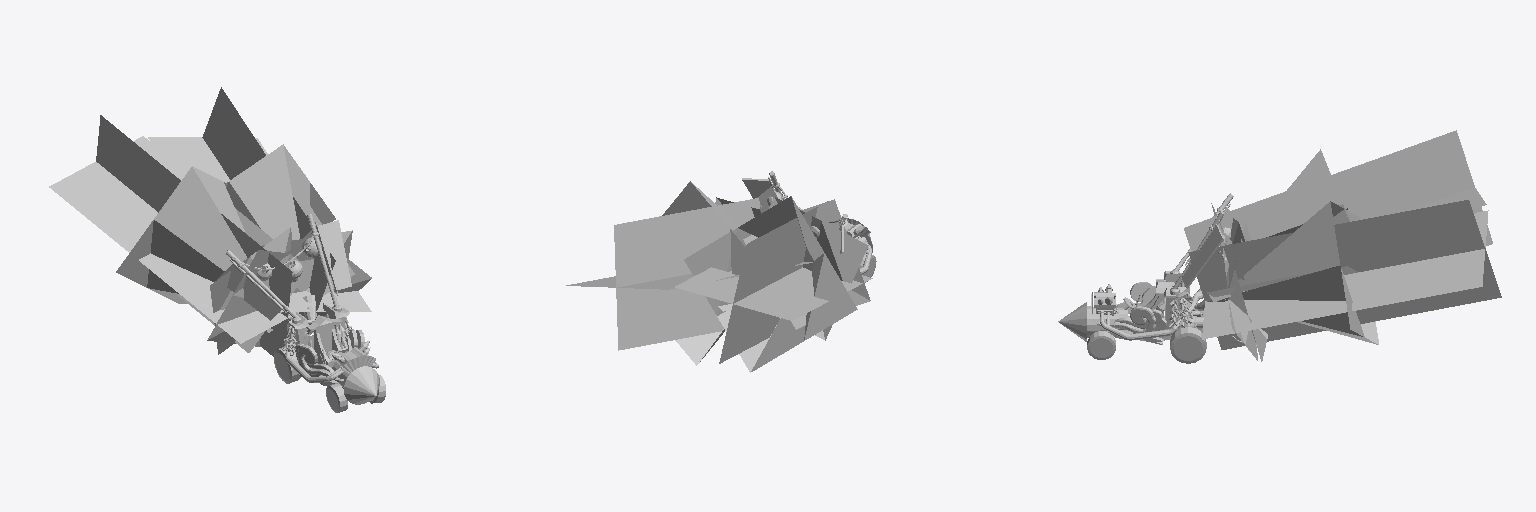
Rendered from Kart_fireFX.obj.
3 renders of one model, left to right at view 1: azimuth 30°, elevation 25°; view 2: azimuth 150°, elevation 25°; view 3: azimuth 270°, elevation 25°, orthographic.
Visible parts, largest first — view 1: Txt_Vfx_Muzzle_A, BG1_low.002, BG2_low.002, BG8_low.002, BG6_low.002, BG3_low.003, BG5_low.002, BG4_low.002; view 2: Txt_Vfx_Muzzle_A, BG1_low.002; view 3: Txt_Vfx_Muzzle_A, BG1_low.002, BG2_low.002, BG9_low.003, BG6_low.002, BG4_low.002.
Part boxes in pixels (left/top/right/bottom): Txt_Vfx_Muzzle_A: left=49, top=87, right=371, bottom=356; BG1_low.002: left=217, top=214, right=379, bottom=404; BG2_low.002: left=287, top=296, right=366, bottom=381; BG8_low.002: left=287, top=314, right=341, bottom=367; BG6_low.002: left=241, top=232, right=385, bottom=412; BG3_low.003: left=285, top=295, right=343, bottom=382; BG5_low.002: left=237, top=233, right=375, bottom=374; BG4_low.002: left=288, top=303, right=349, bottom=368; Txt_Vfx_Muzzle_A: left=566, top=181, right=872, bottom=372; BG1_low.002: left=742, top=171, right=872, bottom=253; Txt_Vfx_Muzzle_A: left=1184, top=130, right=1501, bottom=361; BG1_low.002: left=1058, top=193, right=1233, bottom=363; BG2_low.002: left=1094, top=261, right=1196, bottom=344; BG9_low.003: left=1100, top=288, right=1203, bottom=340; BG6_low.002: left=1087, top=208, right=1221, bottom=359; BG4_low.002: left=1098, top=271, right=1189, bottom=328.
Size of the model in its own units: 25.42 by 19.54 by 42.29.